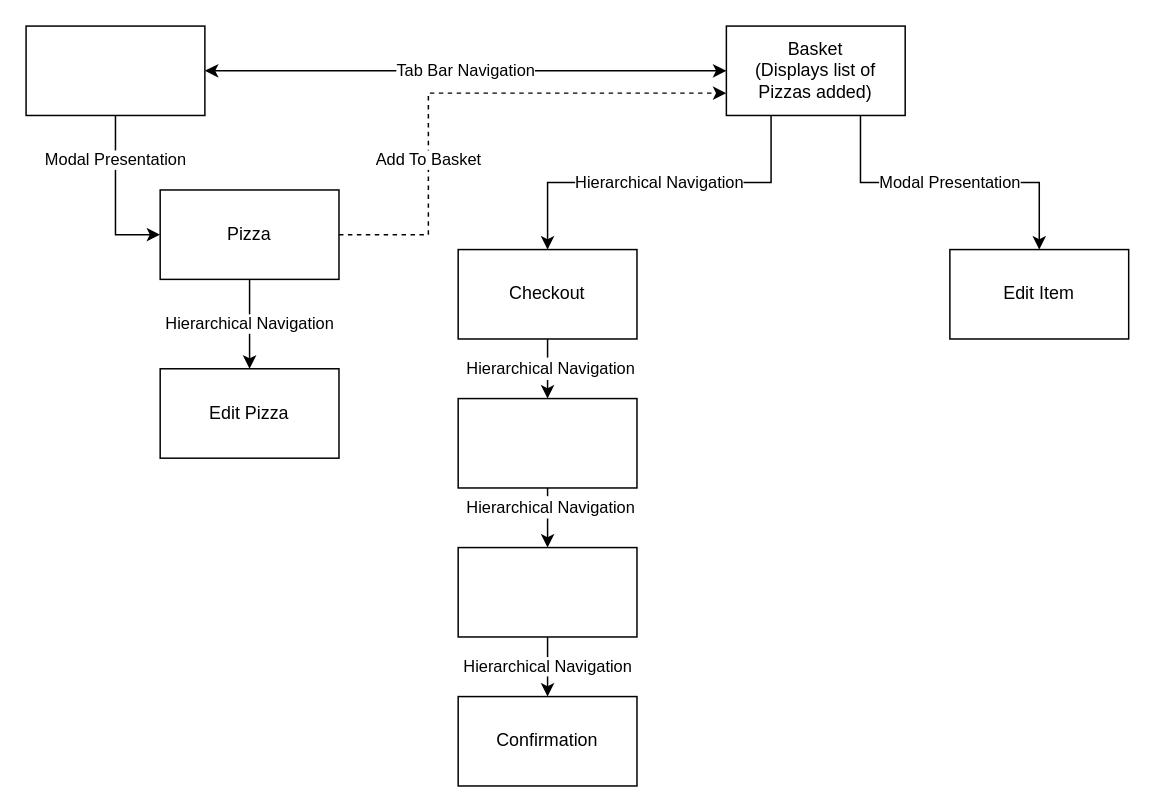
Image size: 1155x812. Some labels were removed from this diagram. The centre of each missing label's shape, as x and y in pixels:
Delivery Info: (x=547, y=442)
Menu (Displays list of pizzas): (x=115, y=70)
Payment Info: (x=547, y=591)
